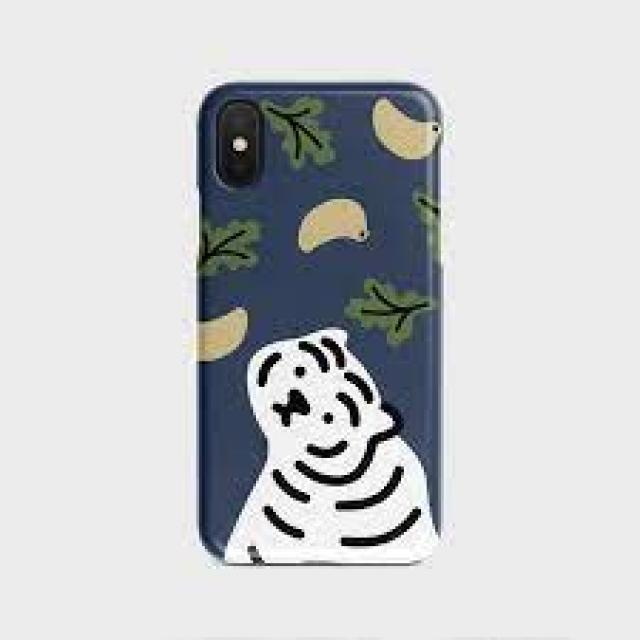phone: (186, 73, 447, 568)
